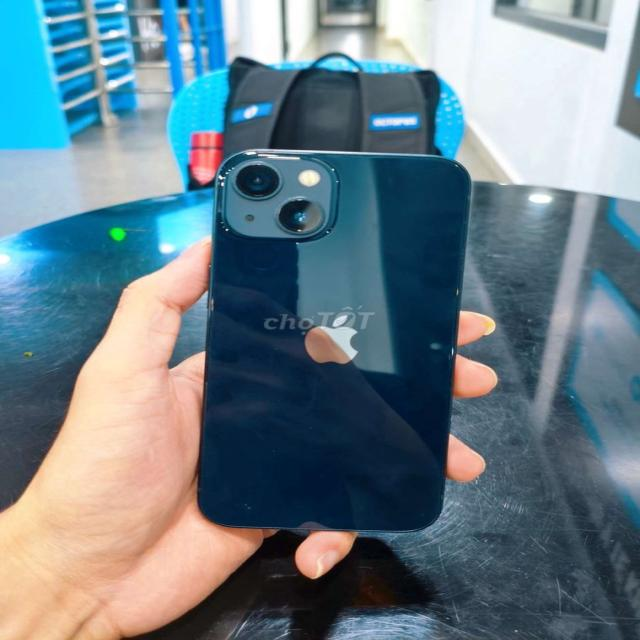gen_12_13: (191, 132, 505, 560)
